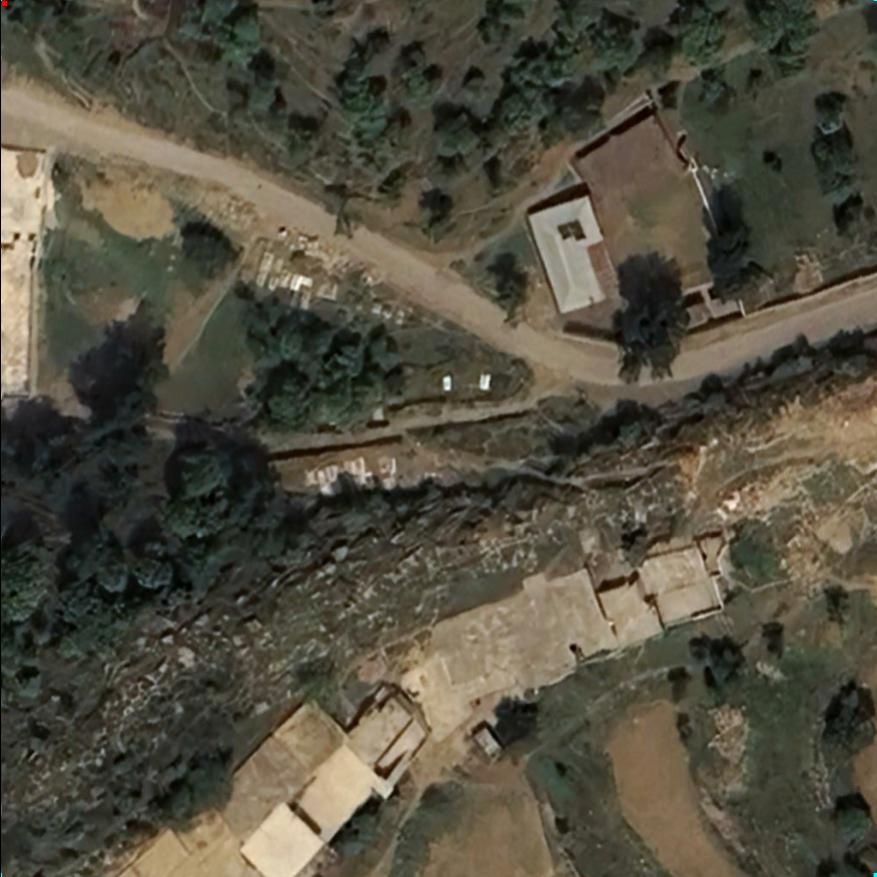Solarpanel: (554, 218, 586, 241)
